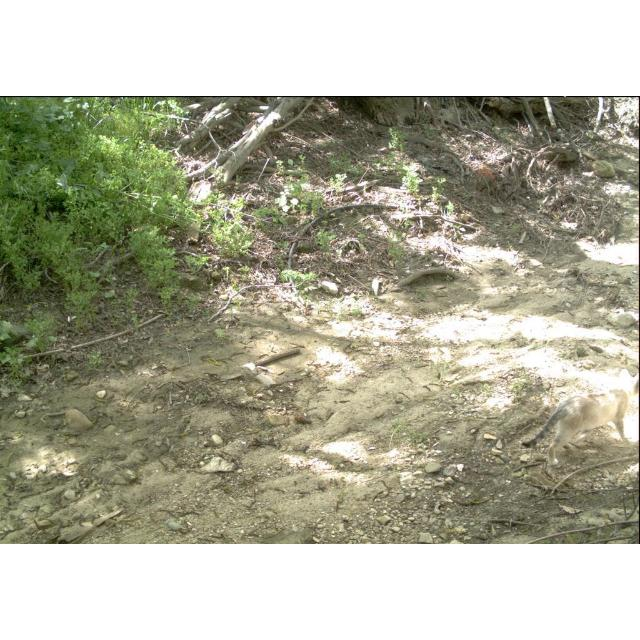animals: (518, 389, 632, 461)
